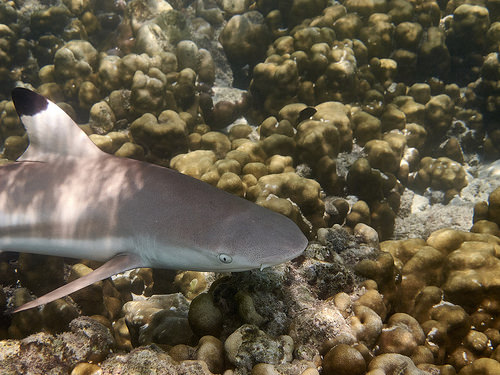shark: (2, 70, 318, 318)
